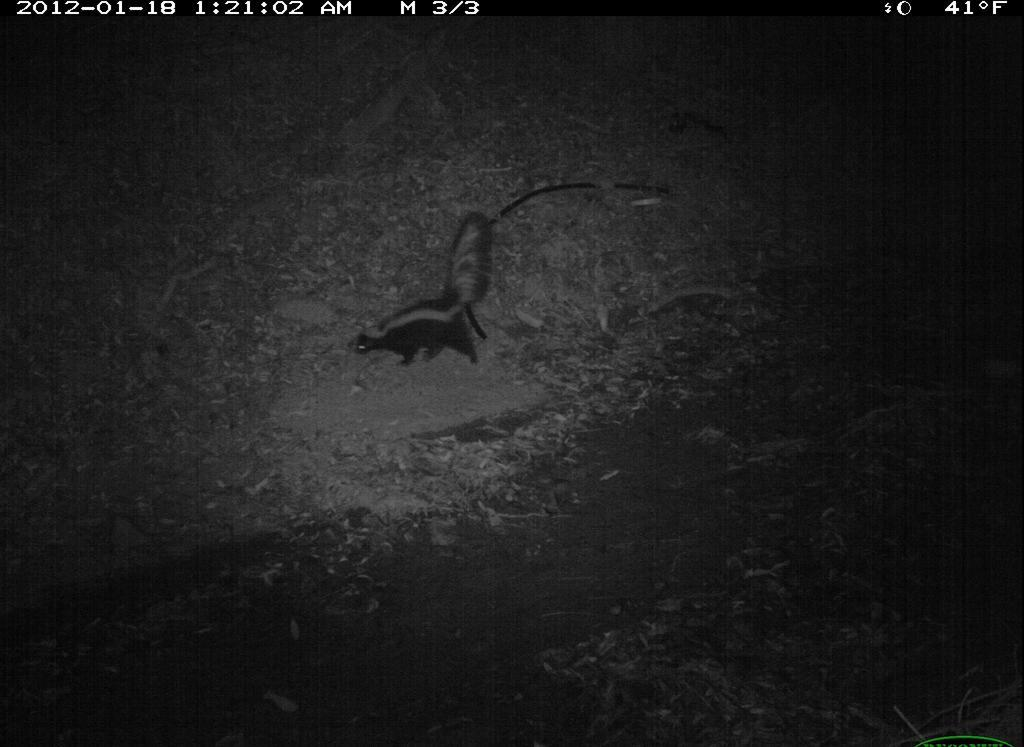skunk: (344, 203, 505, 376)
